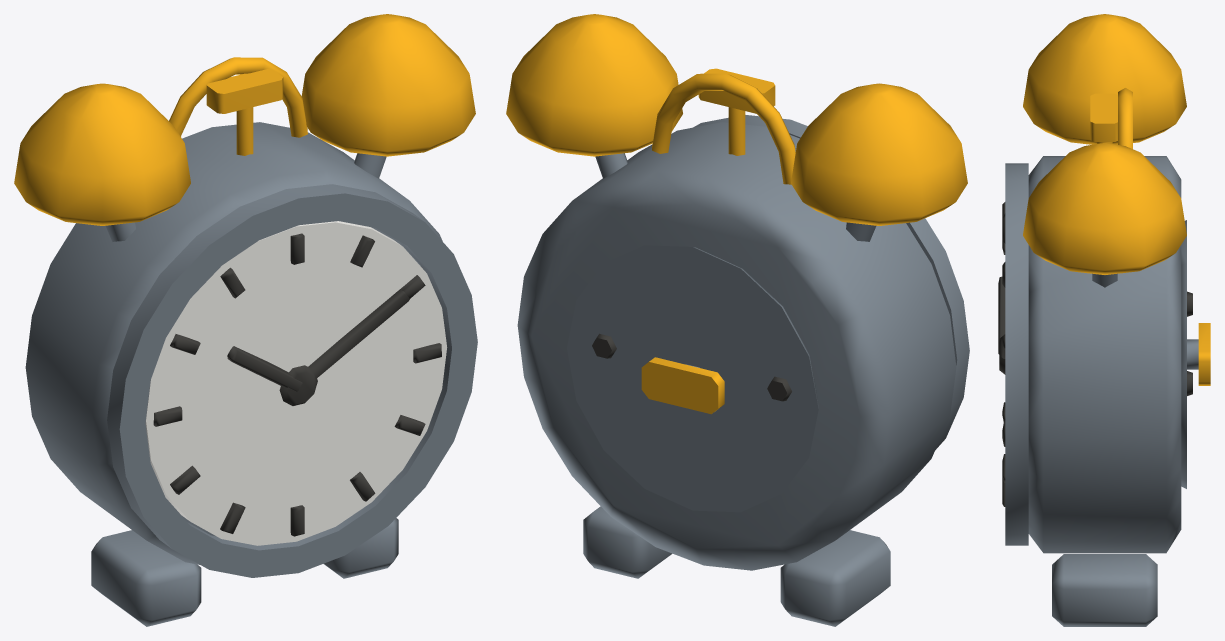
Rendered from fine_clock.glb.
3 renders of one model, left to right at view 1: azimuth 30°, elevation 25°; view 2: azimuth 150°, elevation 25°; view 3: azimuth 270°, elevation 25°, orthographic. The views are drawn at different scales.
Visible parts, largest first — view 1: fine_clock_structure; view 2: fine_clock_structure; view 3: fine_clock_structure.
Part boxes in pixels (x1=…): fine_clock_structure: x1=14, y1=14, x2=477, y2=626; fine_clock_structure: x1=506, y1=14, x2=969, y2=626; fine_clock_structure: x1=998, y1=14, x2=1210, y2=626.
Bounding box in the file's own units: 0.8 × 0.92 × 0.3615.
